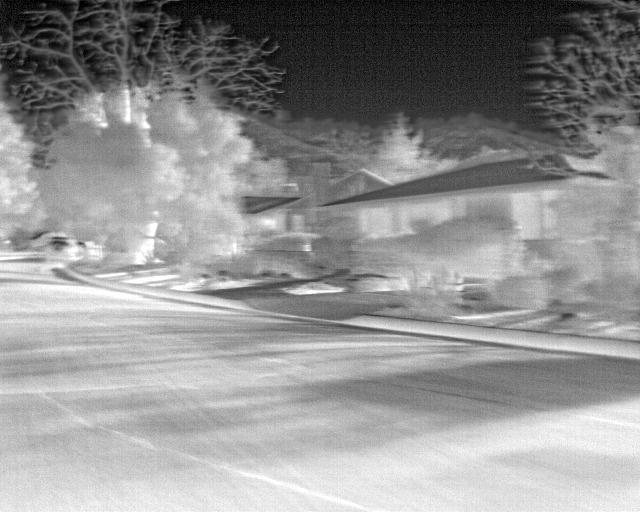car: (37, 227, 94, 280)
